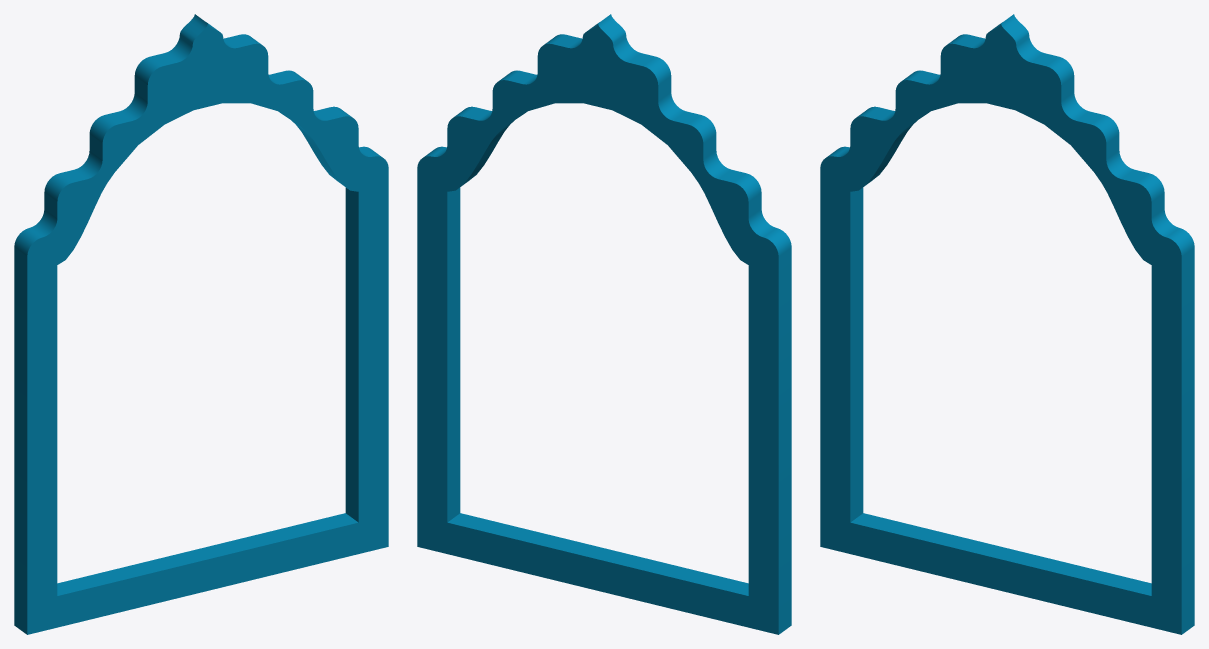
The model's file is miroir.FBX.
3 views of the same model, side by side, from view 1: azimuth 30°, elevation 25°; view 2: azimuth 150°, elevation 25°; view 3: azimuth 330°, elevation 25° (orthographic).
Visible parts, largest first — view 1: Line004; view 2: Line004; view 3: Line004.
Boxes of the visible parts, <box> form: Line004: <box>14,14,388,634</box>; Line004: <box>417,14,791,634</box>; Line004: <box>820,14,1194,634</box>.
Bounding box in the file's own units: 96 × 144 × 6.
